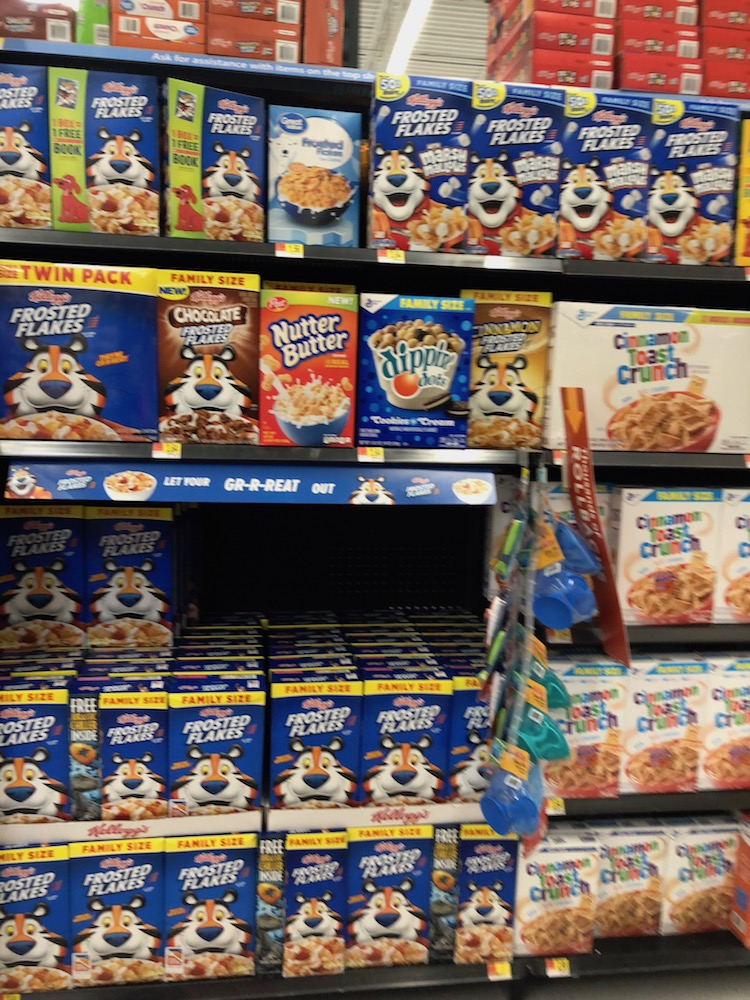Dippin Dots Cookies & Cream -568929378: (361, 283, 466, 444)
Nutter Butter-565717511: (255, 286, 361, 450)
